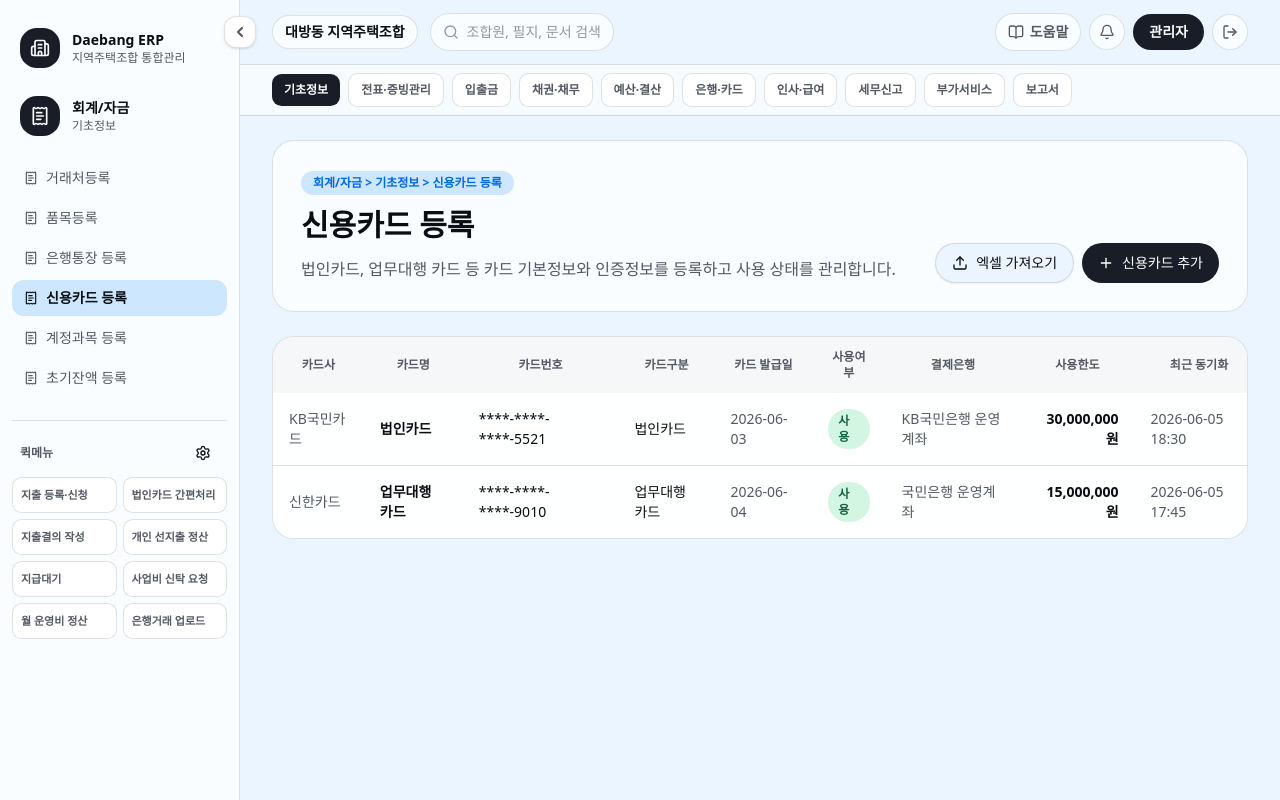
it: BusinessPartnerPage › renders credit card registration list and adds a card from the modal
This screenshot has width=1280, height=800.
Check: the heading "신용카드 등록" is shown, box [301,204,474,245]
Check: the column heading "카드 발급일" is shown, box [714,337,812,393]
Click the button "신용카드 추가". click: (1151, 263)
box: [1082,243,1219,283]
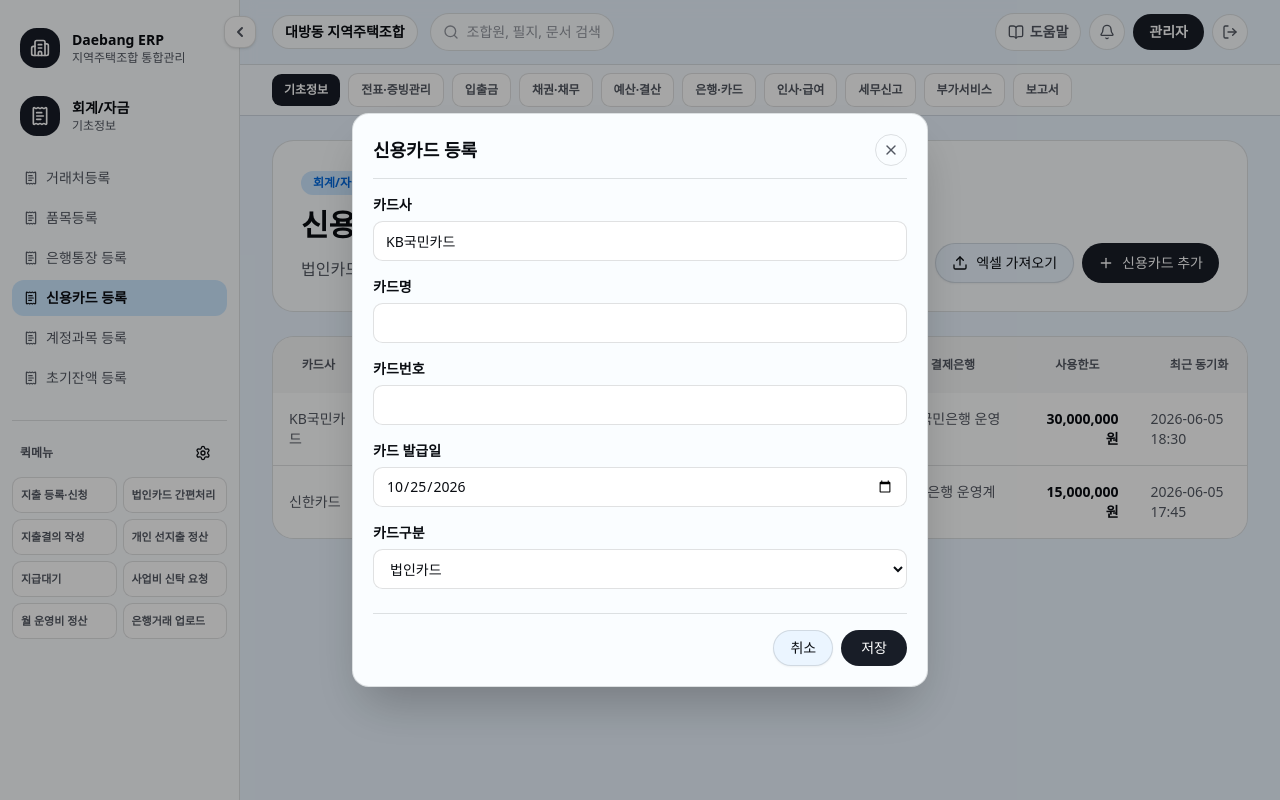
Check: the dialog "신용카드 등록" is shown, box [352,113,928,687]
Type "2026-06-07" into the date field labelled "카드 발급일". click: (640, 487)
box: [373,467,907,507]
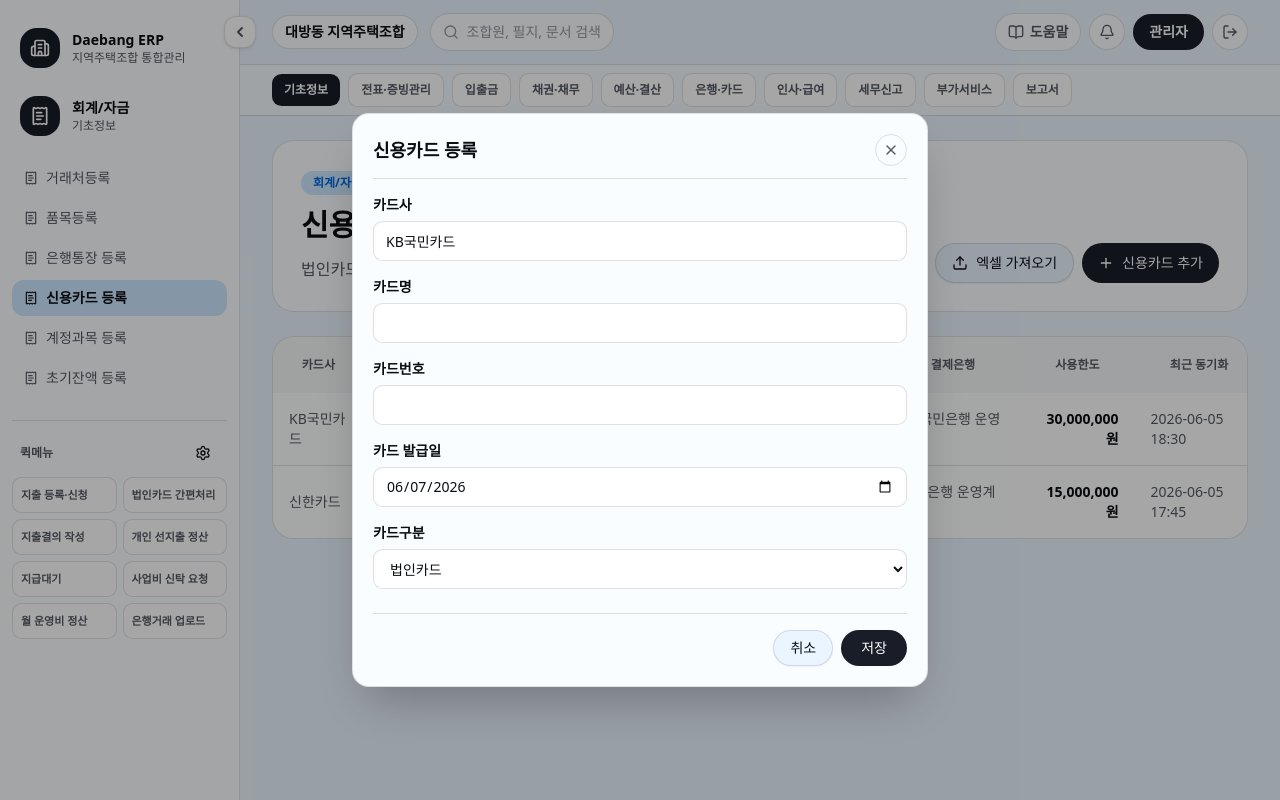
Type "추가 법인카드" into the field labelled "카드명". click: (640, 323)
box: [373,303,907,343]
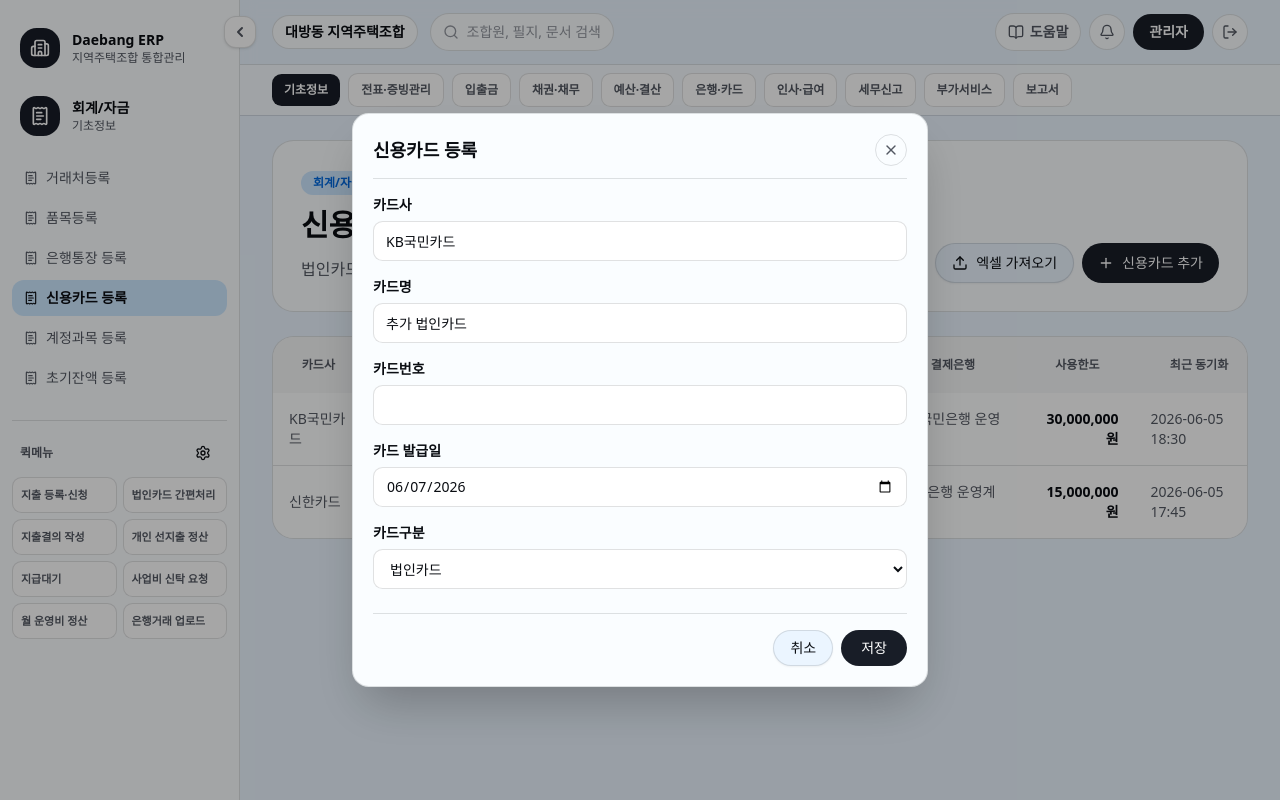
Type "4444-5555-6666-7777" into the field labelled "카드번호". click: (640, 405)
box: [373,385,907,425]
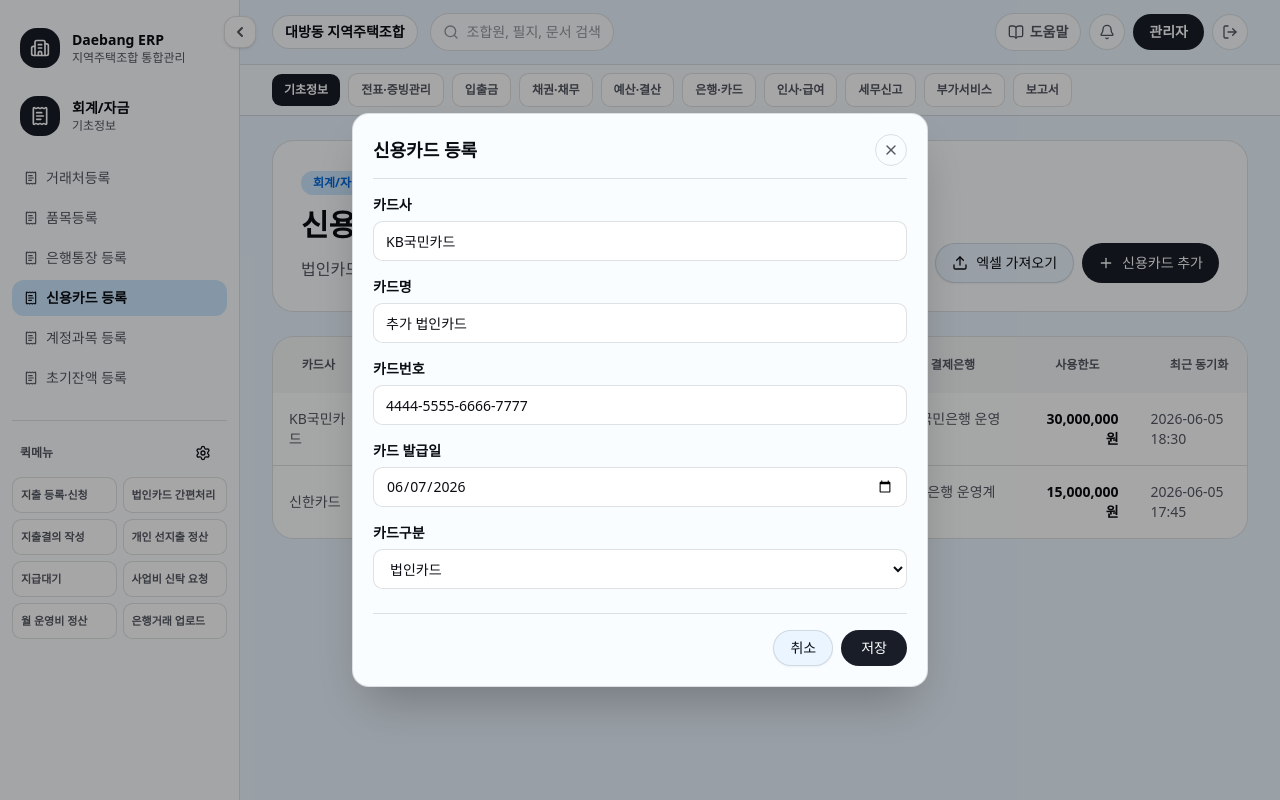
Click the button "저장". click: (874, 648)
box: [841,630,907,666]
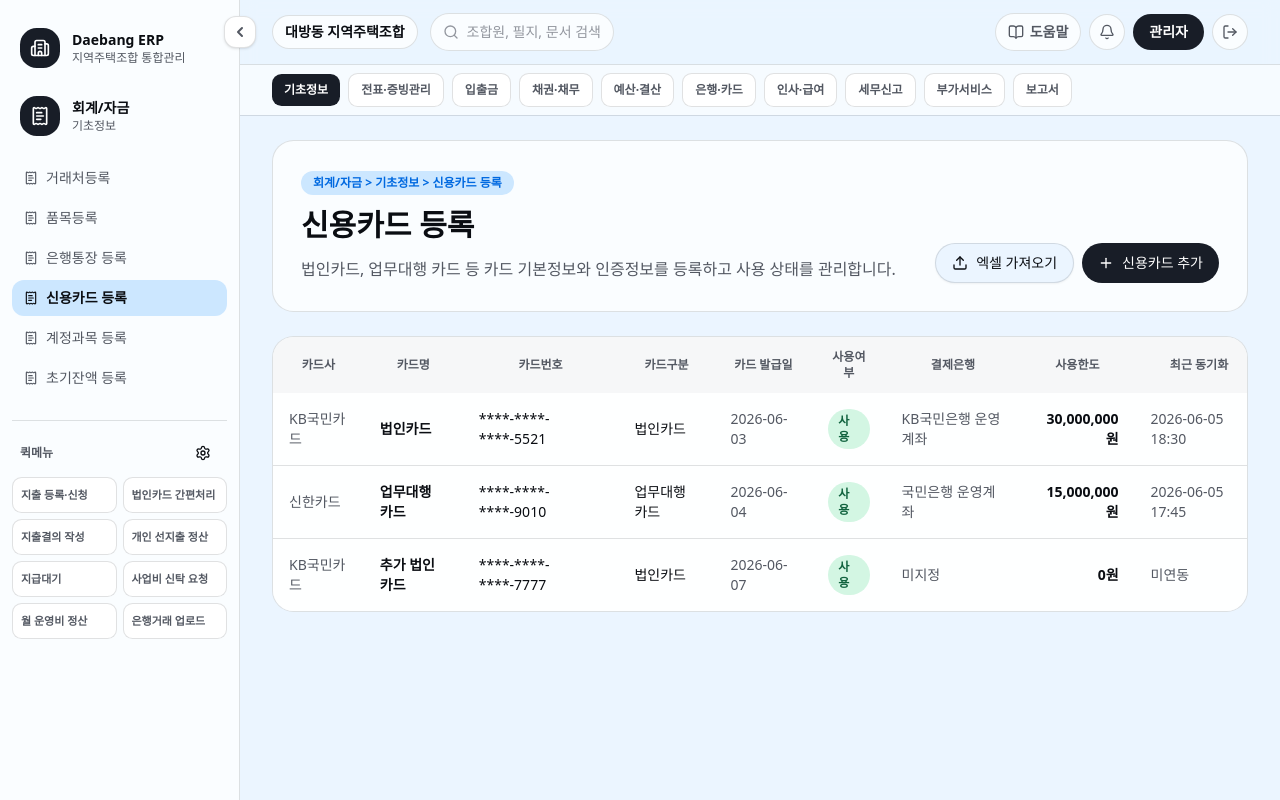
Check: the text "추가 법인카드" is shown, box [364,538,463,611]
Check: the text "****-****-****-7777" is shown, box [463,538,618,611]
Check: the text "2026-06-07" is shown, box [714,538,812,611]
